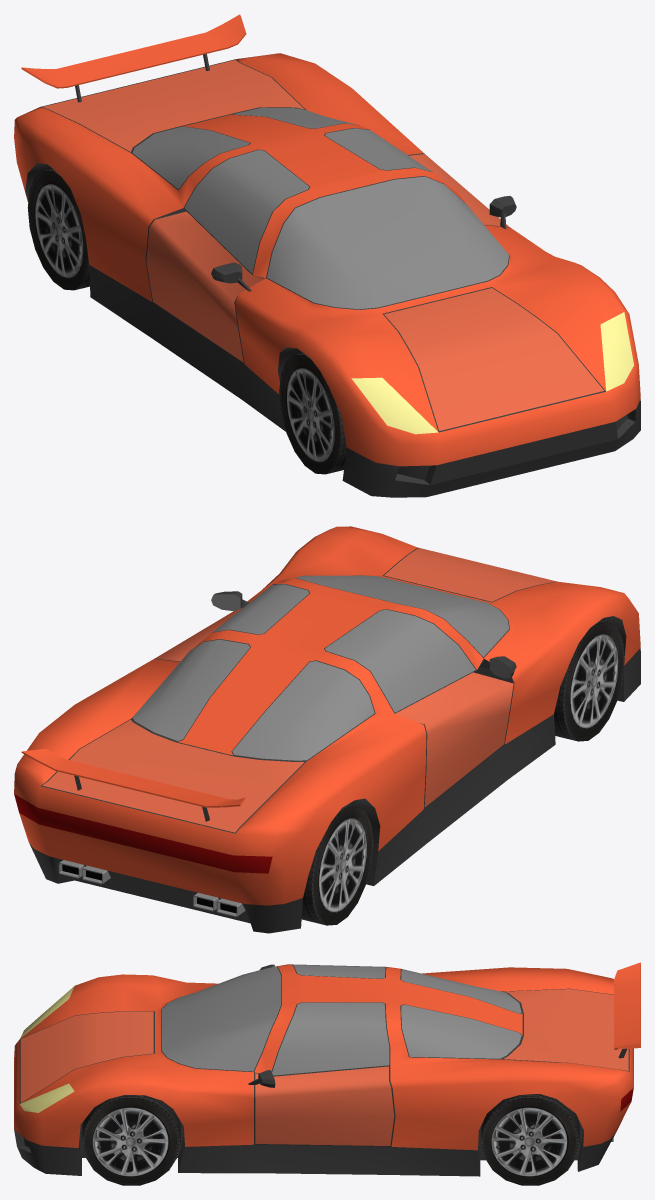
File: car_16.FBX
3 renders of one model, top to bottom at view 1: azimuth 30°, elevation 25°; view 2: azimuth 150°, elevation 25°; view 3: azimuth 270°, elevation 25°, orthographic. The views are drawn at different scales.
Visible parts, largest first — view 1: Object001, Cylinder003, Cylinder004; view 2: Object001, Cylinder004, Cylinder003; view 3: Object001, Cylinder001, Cylinder002.
Boxes of the visible parts, x1=… form: Object001: x1=14, y1=14, x2=640, y2=497; Cylinder003: x1=279, y1=352, x2=346, y2=474; Cylinder004: x1=27, y1=168, x2=89, y2=290; Object001: x1=14, y1=526, x2=640, y2=933; Cylinder004: x1=301, y1=803, x2=373, y2=925; Cylinder003: x1=554, y1=619, x2=624, y2=741; Object001: x1=14, y1=962, x2=640, y2=1176; Cylinder001: x1=481, y1=1094, x2=579, y2=1185; Cylinder002: x1=82, y1=1095, x2=180, y2=1185.
Size of the model in its own units: 2.14 by 1.22 by 4.88.
